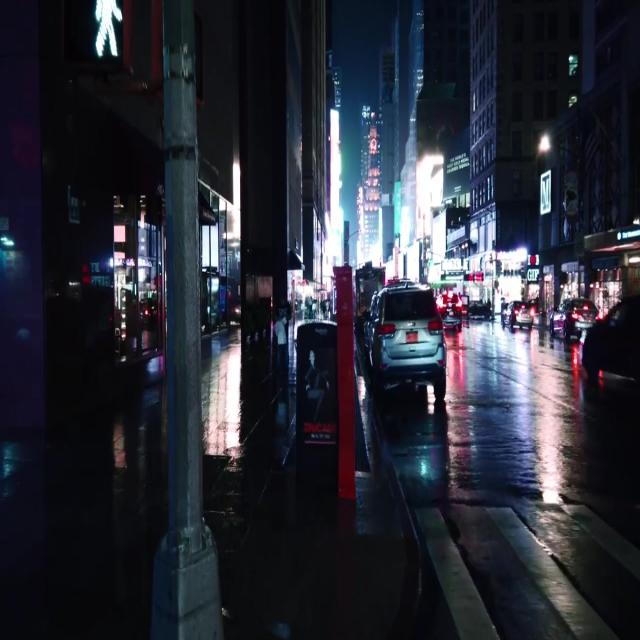Car: (369, 285, 446, 387), (547, 302, 598, 336)
